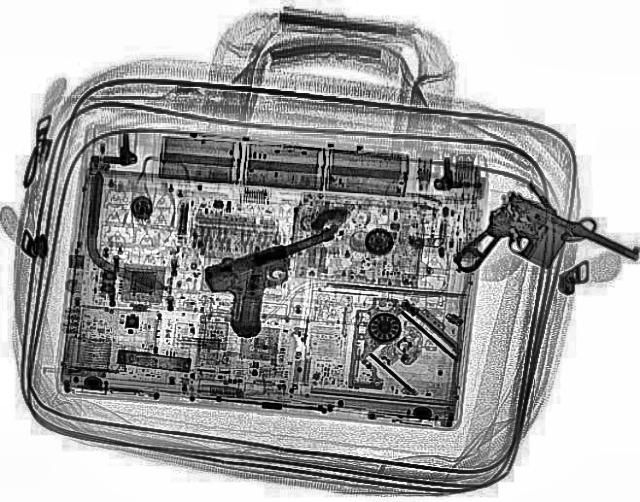Gun: (444, 188, 638, 320), (193, 226, 374, 340)
